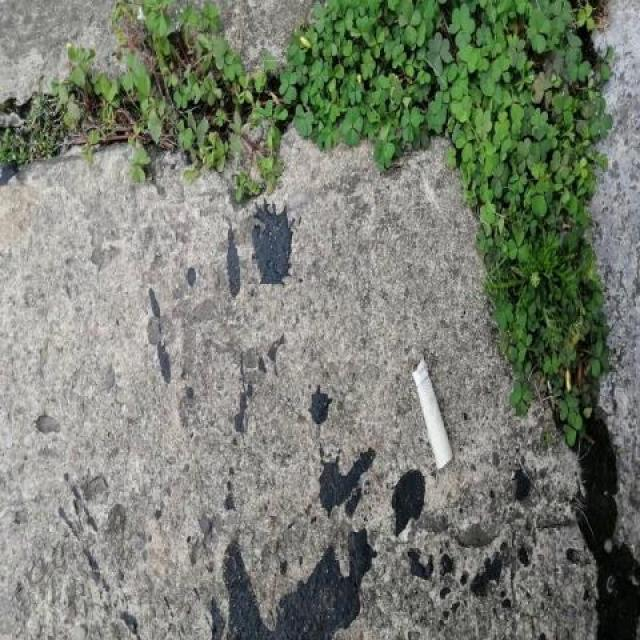non-organic waste: (406, 354, 461, 477)
